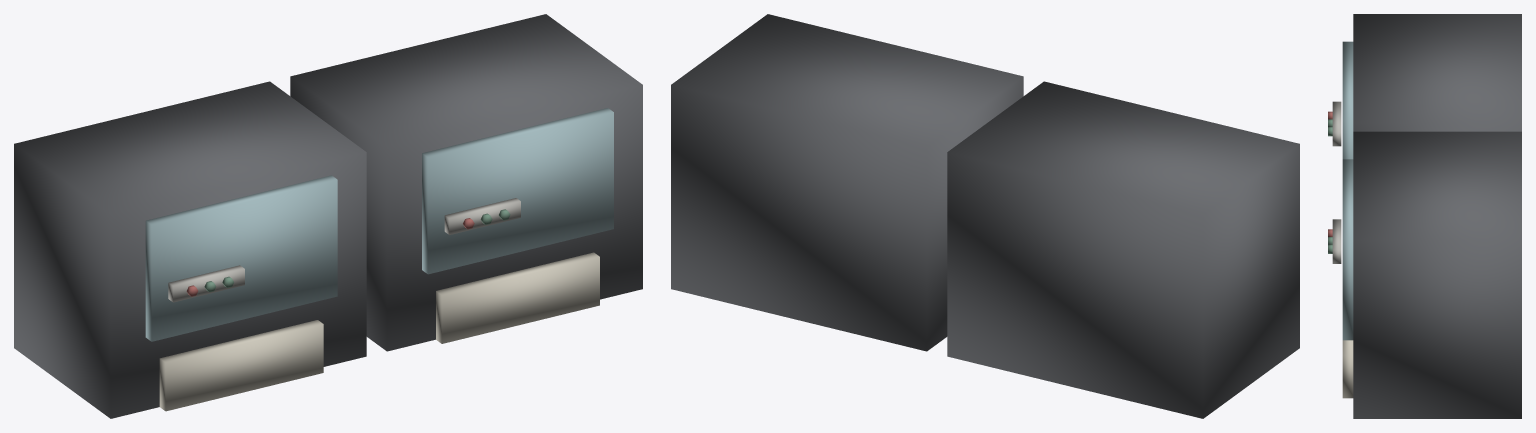
Rendered from terminal_pedestal__cluster.glb.
3 renders of one model, left to right at view 1: azimuth 30°, elevation 25°; view 2: azimuth 150°, elevation 25°; view 3: azimuth 270°, elevation 25°, orthographic. The views are drawn at different scales.
Visible parts, largest first — view 1: world; view 2: world; view 3: world.
Part boxes in pixels (x1=…): world: x1=14, y1=14, x2=642, y2=418; world: x1=671, y1=14, x2=1299, y2=418; world: x1=1328, y1=14, x2=1521, y2=418.
Bounding box in the file's own units: 1.14 × 0.42 × 0.4135.
